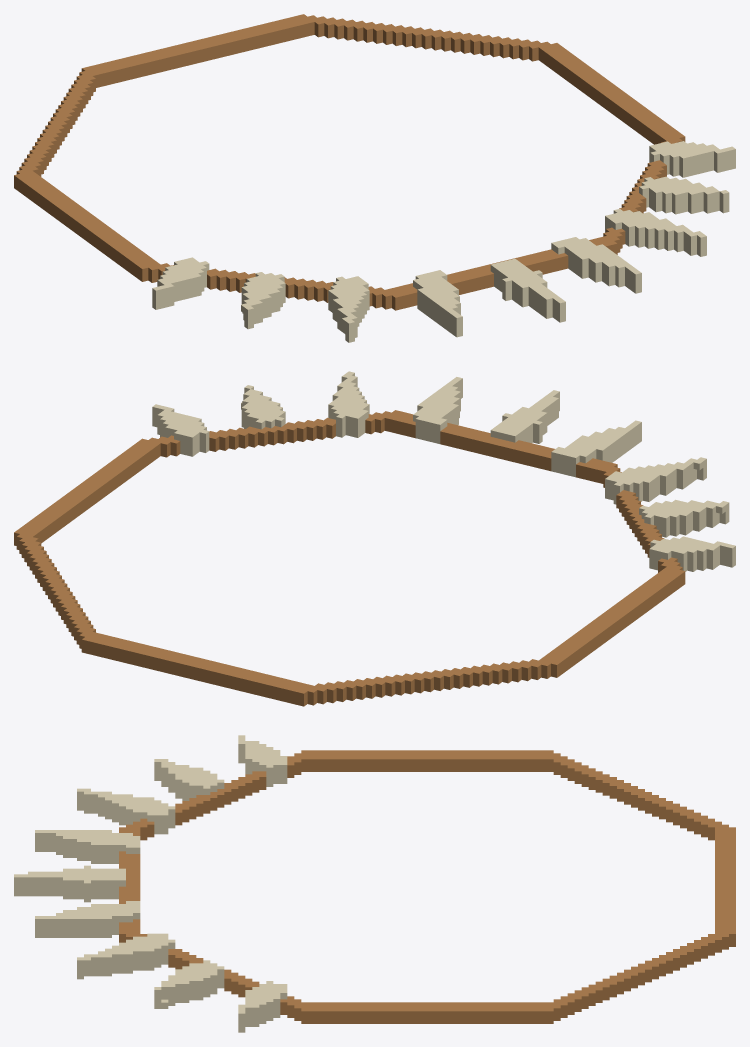
File: necklace_teeth.glb
3 views of the same model, one above another, from view 1: azimuth 30°, elevation 25°; view 2: azimuth 150°, elevation 25°; view 3: azimuth 270°, elevation 25° (orthographic).
Parts seen in each view (by area): view 1: necklace_teeth:compound; view 2: necklace_teeth:compound; view 3: necklace_teeth:compound.
Part boxes in pixels (x1=…): necklace_teeth:compound: x1=14, y1=14, x2=735, y2=342; necklace_teeth:compound: x1=14, y1=371, x2=735, y2=706; necklace_teeth:compound: x1=14, y1=735, x2=735, y2=1032.
Size of the model in its own units: 0.188 by 0.006 by 0.206.
